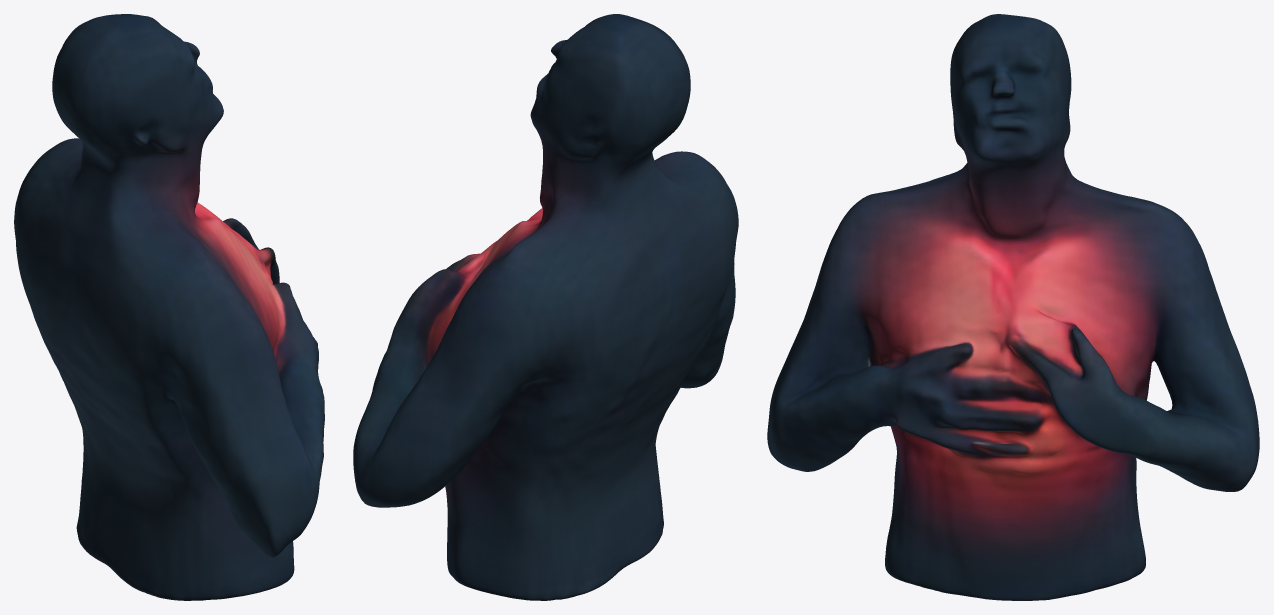
Rendered from chest-pain.glb.
The picture shows the model from 3 angles, left to right: view 1: azimuth 30°, elevation 25°; view 2: azimuth 150°, elevation 25°; view 3: azimuth 270°, elevation 25°; orthographic projection. The views are drawn at different scales.
Parts seen in each view (by area): view 1: world; view 2: world; view 3: world.
Part boxes in pixels (box(x1,y1,x2,y2)): world: box(14, 14, 324, 600); world: box(353, 14, 738, 600); world: box(767, 14, 1259, 600).
Size of the model in its own units: 0.262 by 0.5628 by 0.4823.
Materials: 1 (1 with a texture image).
